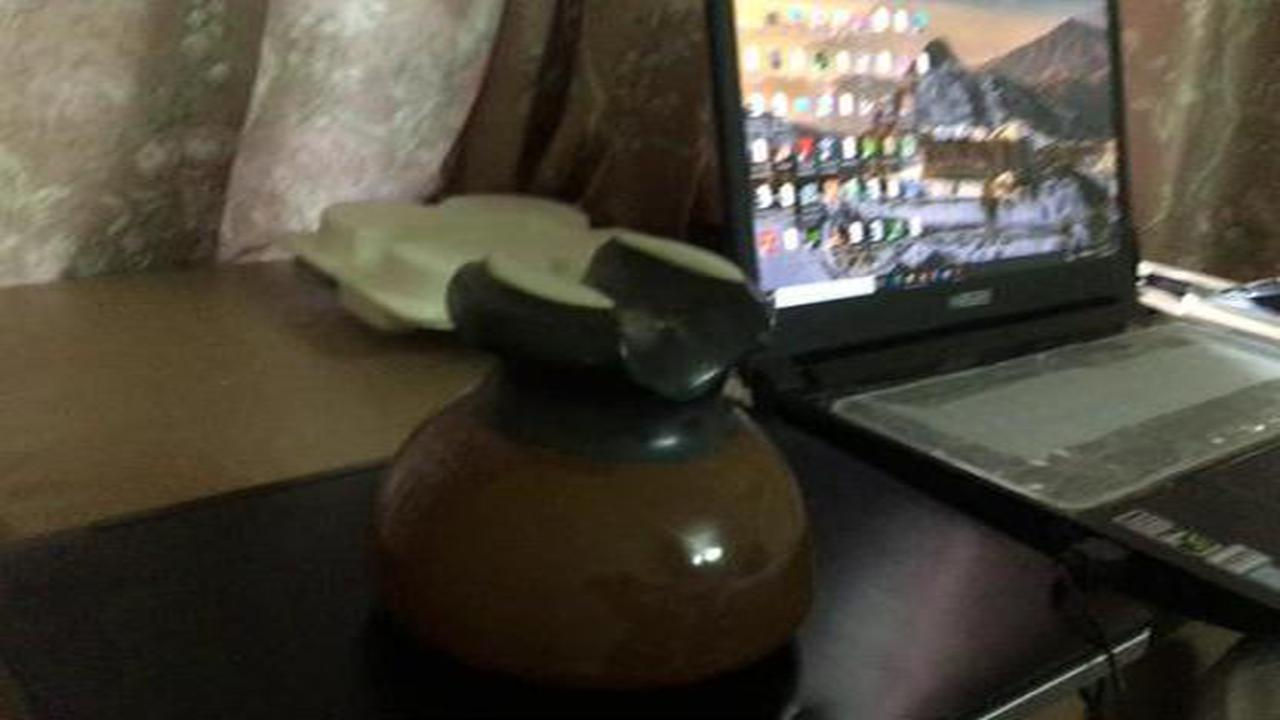insulator_pin: (354, 220, 834, 705)
